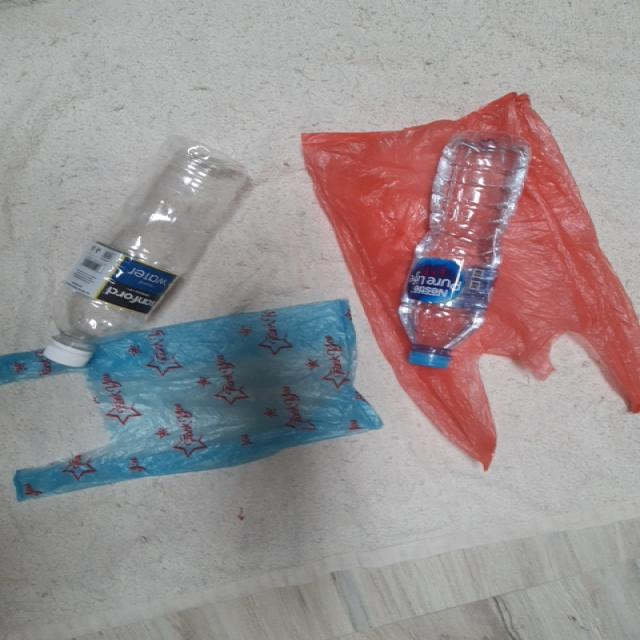Single-layer Plastic: (301, 92, 640, 469), (14, 300, 382, 500)
